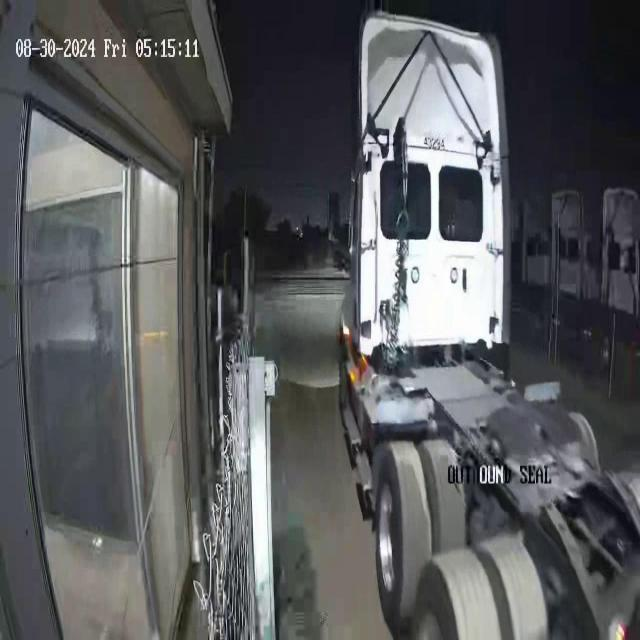TRUCK_OUT: (337, 9, 639, 638)
